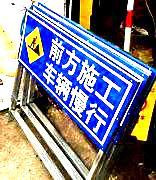sign: (24, 22, 125, 140)
